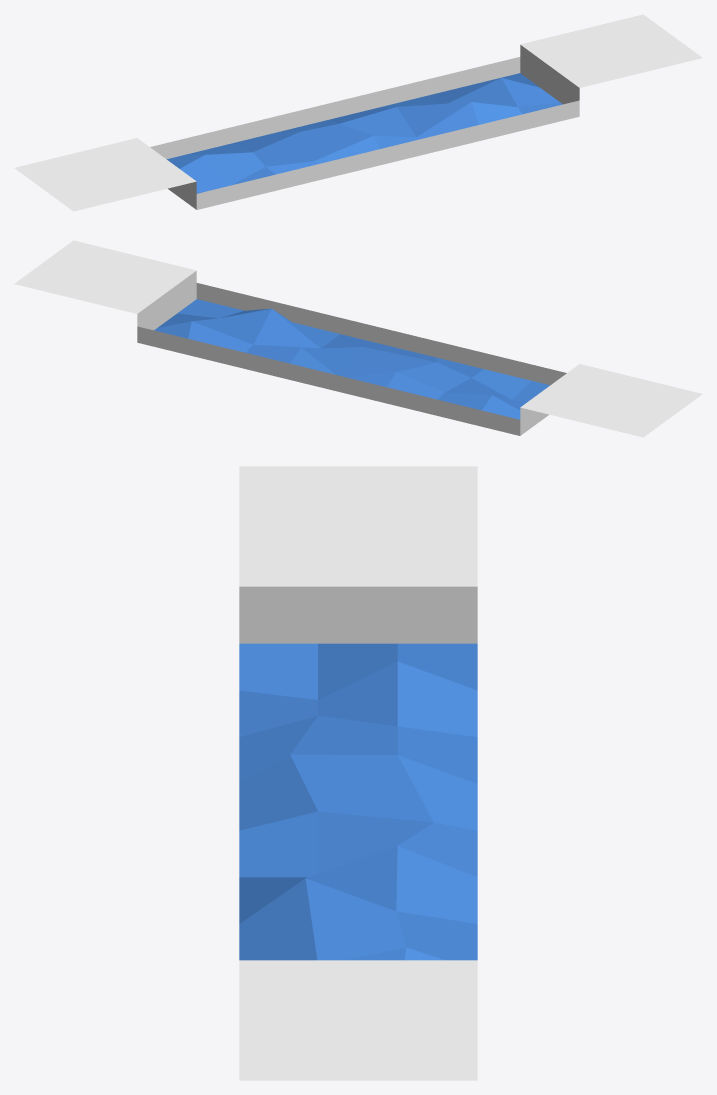
The model's file is Sands.fbx.
The picture shows the model from 3 angles, top to bottom: view 1: azimuth 30°, elevation 25°; view 2: azimuth 150°, elevation 25°; view 3: azimuth 270°, elevation 25°; orthographic projection. The views are drawn at different scales.
Visible parts, largest first — view 1: Sands; view 2: Sands; view 3: Sands.
Boxes of the visible parts, <box> form: Sands: <box>14,14,702,211</box>; Sands: <box>14,240,702,437</box>; Sands: <box>239,466,477,1080</box>.
Size of the model in its own units: 3902 by 198 by 640.
